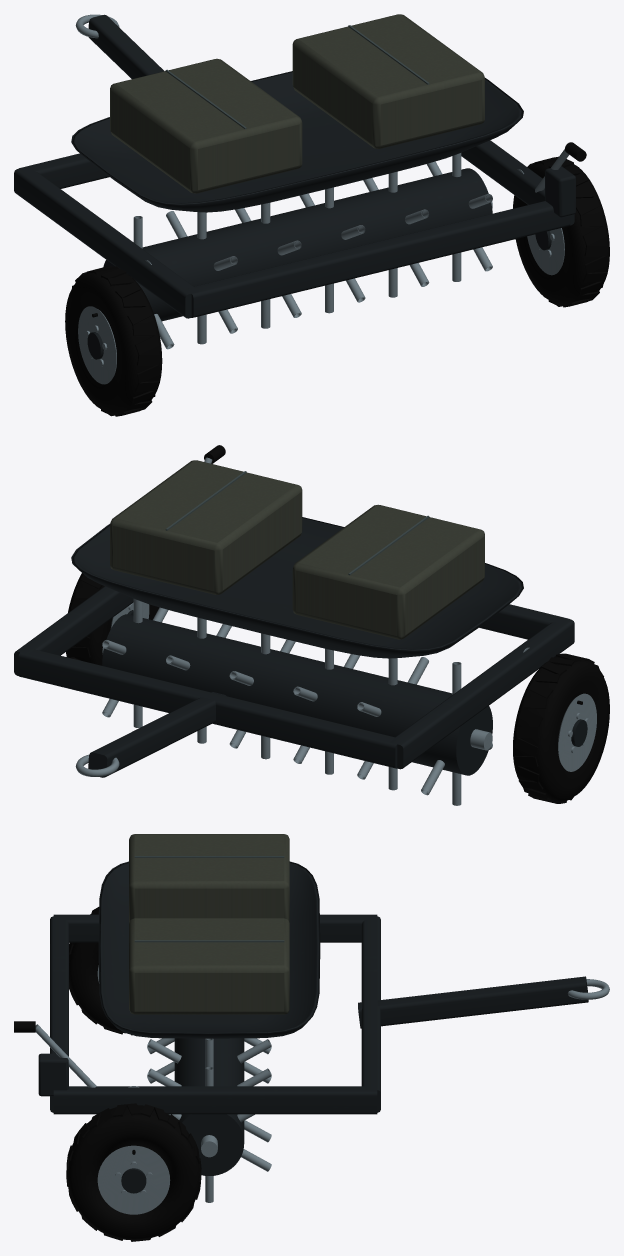
File: TowBehindAerator.gltf
3 renders of one model, top to bottom at view 1: azimuth 30°, elevation 25°; view 2: azimuth 150°, elevation 25°; view 3: azimuth 270°, elevation 25°, orthographic. The views are drawn at different scales.
Visible parts, largest first — view 1: TowBehindAerator__Body, TowBehindAerator__Wheel_Tines, TowBehindAerator__Wheel_Transport-1, TowBehindAerator__Wheel_Transport1; view 2: TowBehindAerator__Body, TowBehindAerator__Wheel_Tines, TowBehindAerator__Wheel_Transport-1, TowBehindAerator__Wheel_Transport1; view 3: TowBehindAerator__Body, TowBehindAerator__Wheel_Transport1, TowBehindAerator__Wheel_Tines, TowBehindAerator__Wheel_Transport-1.
Part boxes in pixels (<box>): TowBehindAerator__Body: <box>14,14,586,318</box>; TowBehindAerator__Wheel_Tines: <box>103,153,492,349</box>; TowBehindAerator__Wheel_Transport-1: <box>65,266,162,416</box>; TowBehindAerator__Wheel_Transport1: <box>513,156,609,307</box>; TowBehindAerator__Body: <box>14,445,574,777</box>; TowBehindAerator__Wheel_Tines: <box>102,599,492,805</box>; TowBehindAerator__Wheel_Transport-1: <box>513,653,609,803</box>; TowBehindAerator__Wheel_Transport1: <box>66,573,159,665</box>; TowBehindAerator__Body: <box>14,834,609,1114</box>; TowBehindAerator__Wheel_Transport1: <box>66,1103,201,1241</box>; TowBehindAerator__Wheel_Tines: <box>147,1038,271,1202</box>; TowBehindAerator__Wheel_Transport-1: <box>69,907,132,1035</box>.
Bounding box in the file's own units: 1.25 × 0.609 × 1.4.
1 material, 1 textured.
